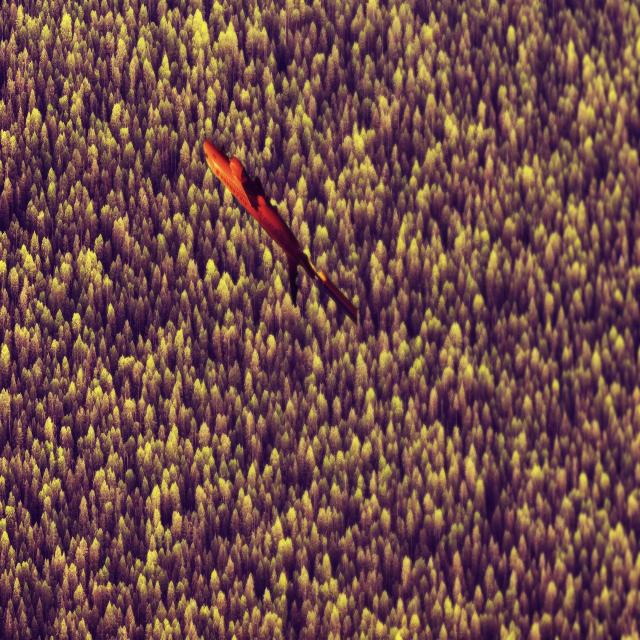airplane: (202, 138, 358, 326)
